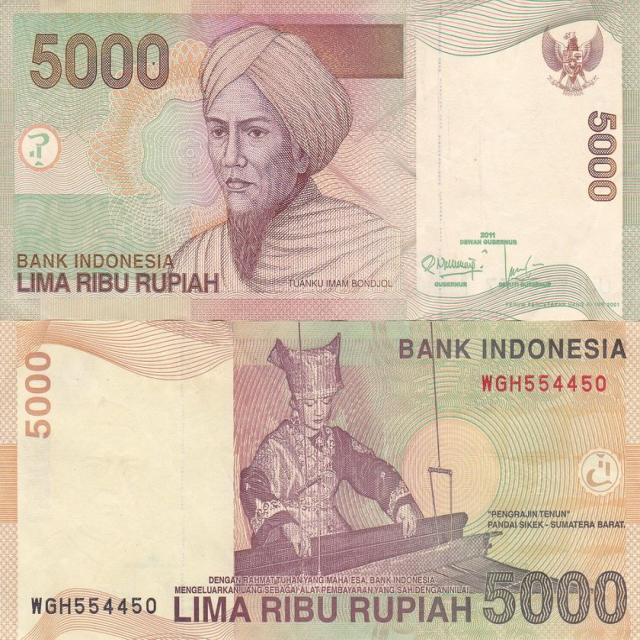lima ribu rupiah: (0, 321, 640, 640), (0, 0, 640, 318)
